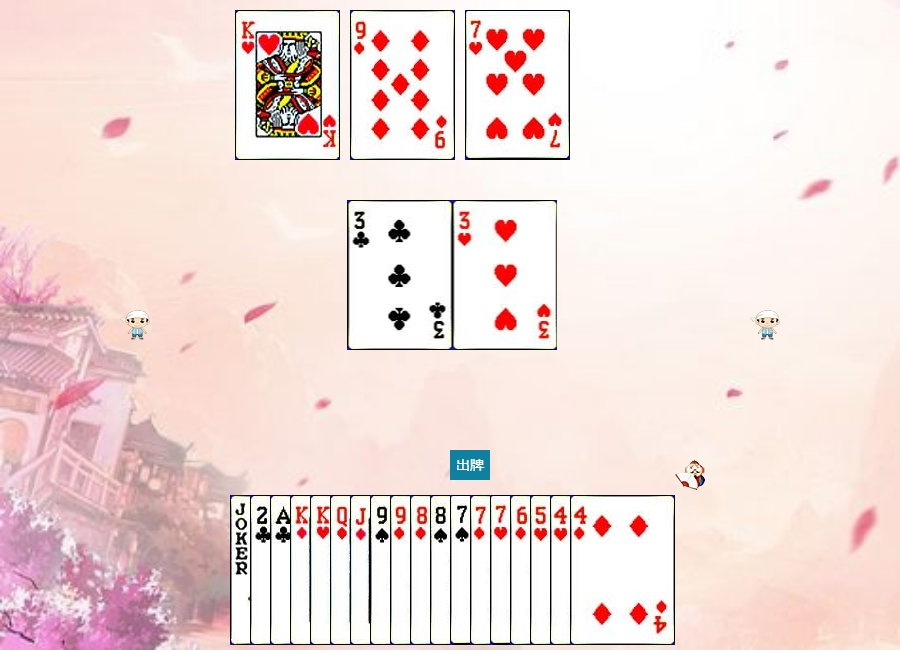11~1: (350, 495, 455, 645)
12~1: (330, 495, 435, 645)
13~1: (290, 495, 395, 645)
13~3: (235, 10, 340, 160), (310, 495, 415, 645)
14~2: (270, 495, 375, 645)
15~2: (250, 495, 355, 645)
17~3: (230, 495, 335, 645)
3~2: (348, 200, 453, 350)
3~3: (453, 200, 558, 350)
4~1: (570, 495, 675, 645)
4~3: (550, 495, 655, 645)
5~3: (530, 495, 635, 645)
6~1: (510, 495, 615, 645)
7~1: (470, 495, 575, 645)
7~3: (465, 10, 570, 160), (490, 495, 595, 645)
7~4: (450, 495, 555, 645)
8~1: (410, 495, 515, 645)
8~4: (430, 495, 535, 645)
9~1: (350, 10, 455, 160), (390, 495, 495, 645)
9~4: (370, 495, 475, 645)
